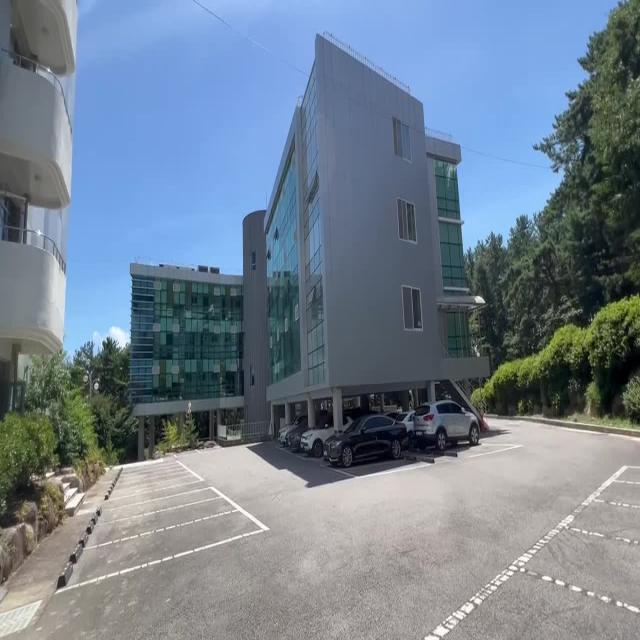building: (146, 39, 467, 387)
